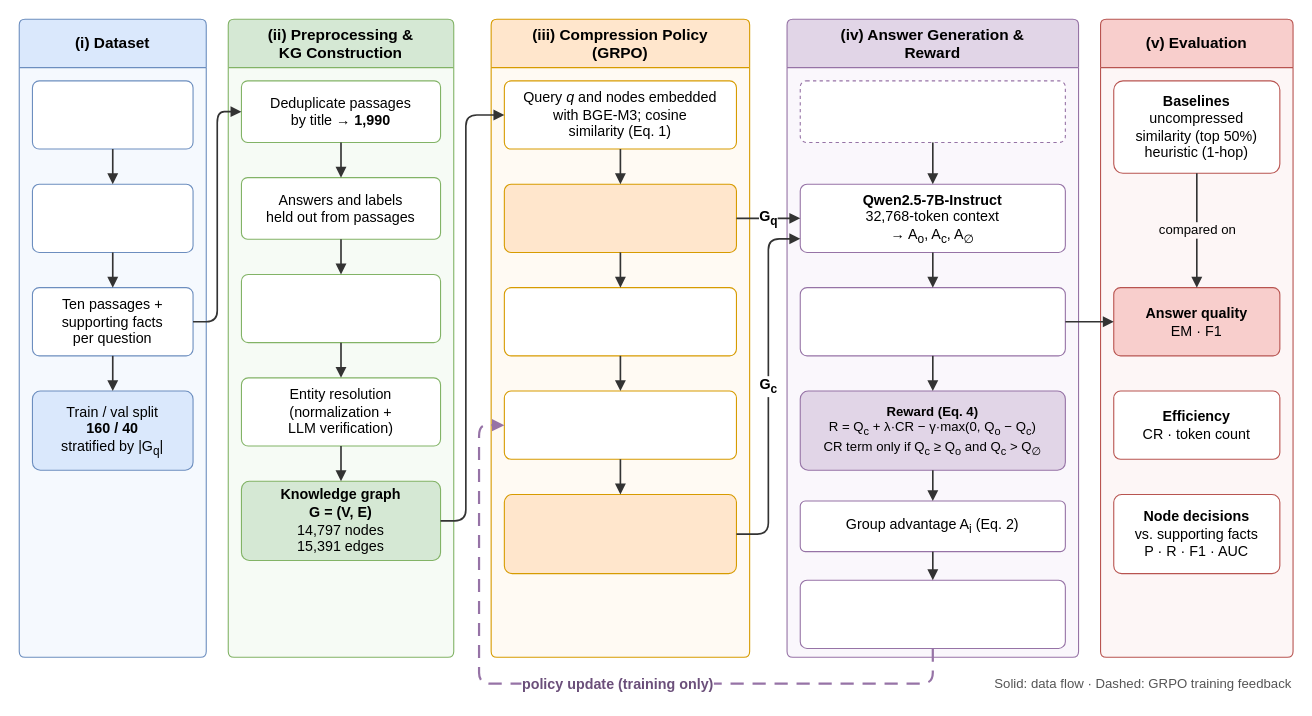
Some shapes in this 1312 by 716 pixel diagram are drawn without their labels. Here are the shapes that lost their labels. From the top down, the centre of each, then its label:
the point at 112,114: HotpotQA distractor dev set 7,405 questions
the point at 932,111: Empty context ∅ (no-context control)
the point at 112,217: 200 hard questions sampled (seed 42)
the point at 619,217: Top-5 seeds + 2-hop expansion → retrieved subgraph G q
the point at 340,308: Entity & relation extraction (Qwen2.5-7B-Instruct)
the point at 619,321: Node features s v : similarity, degree, hop distance, seed flag
the point at 932,321: F1 scores Q o , Q c , Q ∅ CR = 1 − T c / T o (Eq. 5)
the point at 619,424: MLP policy π(KEEP | s v ) 4 sampled trajectories per question
the point at 619,533: KEEP / REMOVE per node (KEEP if p ≥ 0.5 at inference) → compressed subgraph G c
the point at 932,613: Loss (Eq. 3) : policy gradient − β·entropy + η·BCE vs. supporting facts
